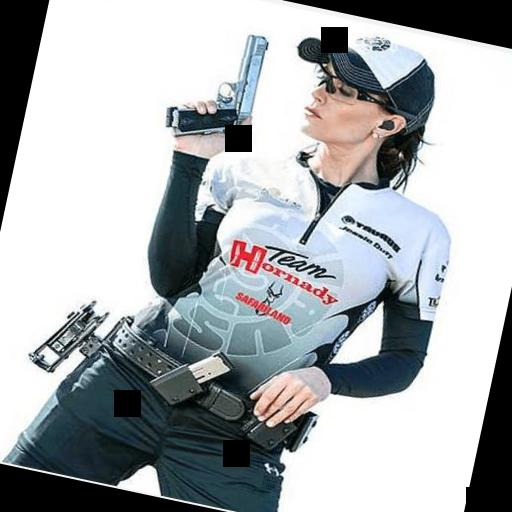Handgun: (137, 10, 284, 150)
